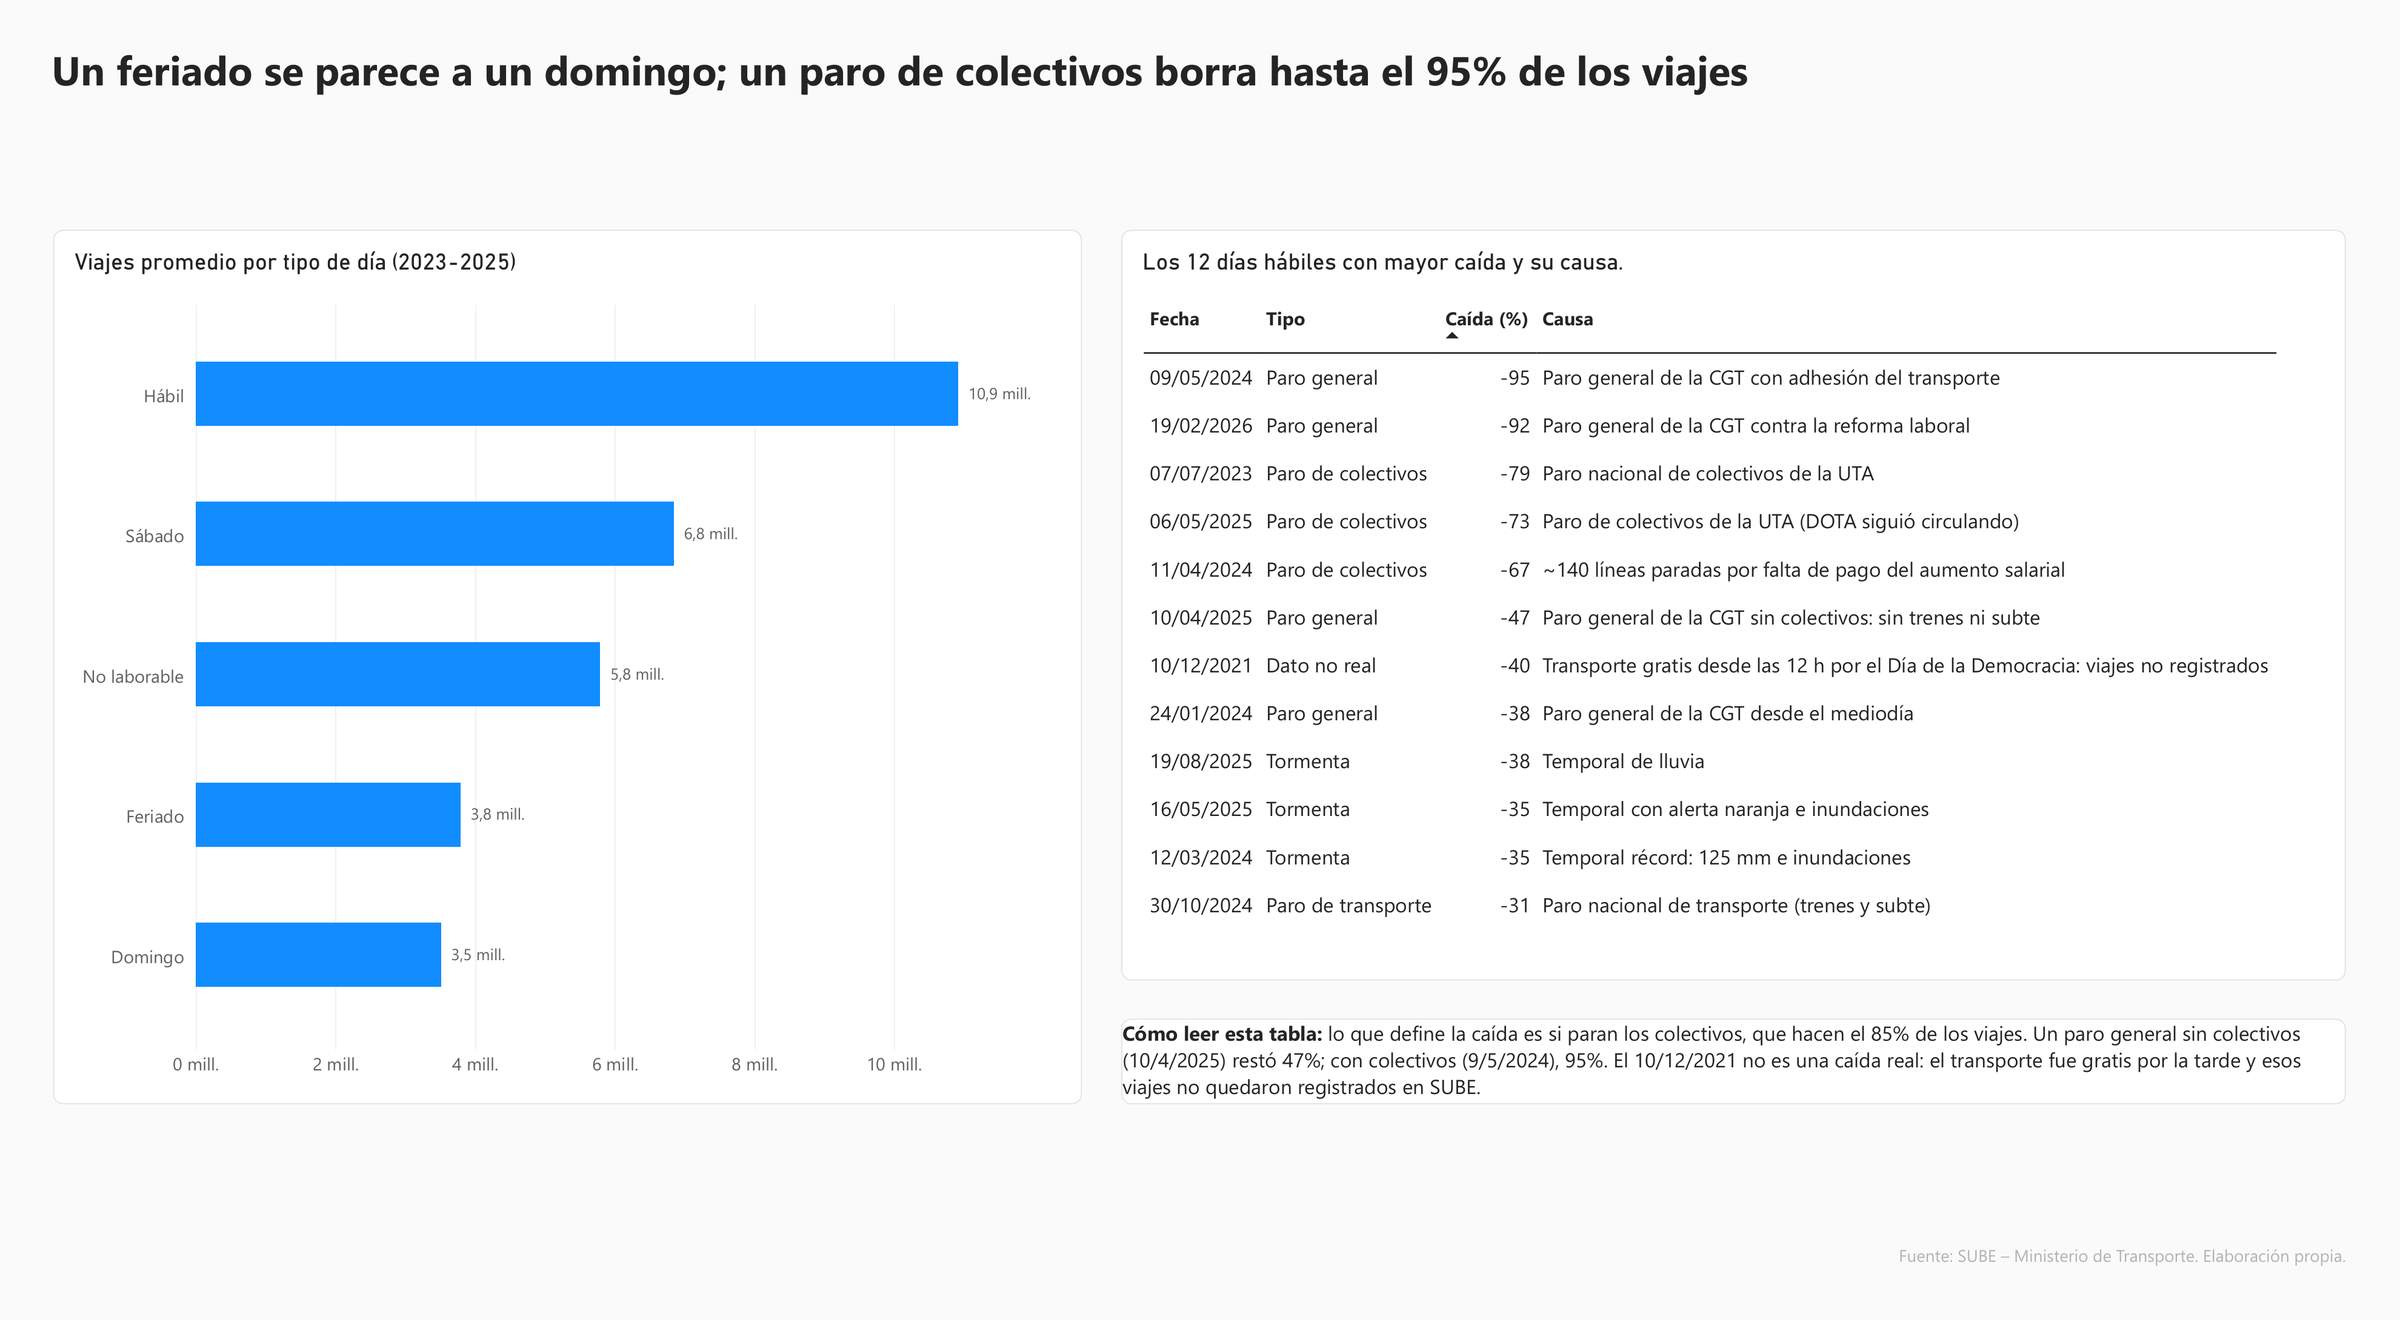

This screenshot's page, from the dashboard's own definition file:
{"tool":"powerbi","page":{"name":"Días atípicos","canvas":[1920,1080],"ordinal":2},"visuals":[{"type":"textbox","box":[41.2,58.3,1836.3,58.3],"z":0},{"type":"clusteredBarChart","title":"Viajes promedio por tipo de día (2023-2025)","fields":{"Category":["dim_fecha.tipo_dia"],"Y":["fact_usos_amba.Promedio diario"]},"box":[41.7,206.7,815,693.3],"z":1000},{"type":"tableEx","title":"Los 12 días hábiles con mayor caída y su causa.","fields":{"Values":["dias_atipicos.fecha","dias_atipicos.tipo_evento","dias_atipicos.caida_pct","dias_atipicos.causa"]},"box":[888.3,206.7,970,595],"z":2000},{"type":"textbox","box":[888.3,831.7,970,68.3],"z":3000},{"type":"textbox","box":[1140,1010,718.3,38.3],"z":3001}]}

Visuals, with their boxes in screenshot pixels (x1, y1, x2, y2), scaled from the page's 1920x1080 canvas onto the 2400x1320 screenshot:
textbox: 52 71 2347 143
"Viajes promedio por tipo de día (2023-2025)" clusteredBarChart: 52 253 1071 1100
"Los 12 días hábiles con mayor caída y su causa." tableEx: 1110 253 2323 980
textbox: 1110 1017 2323 1100
textbox: 1425 1234 2323 1281
